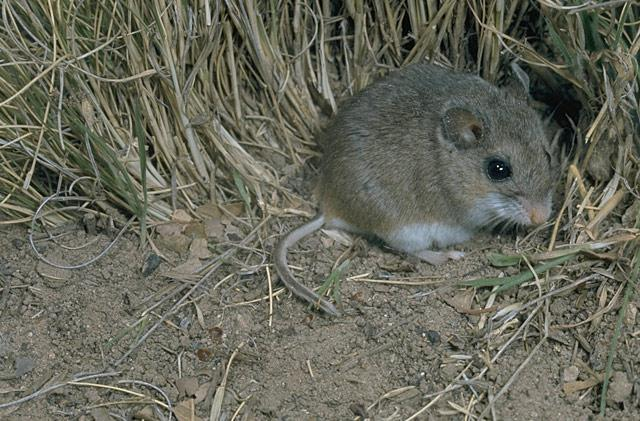rat: (272, 61, 554, 318)
